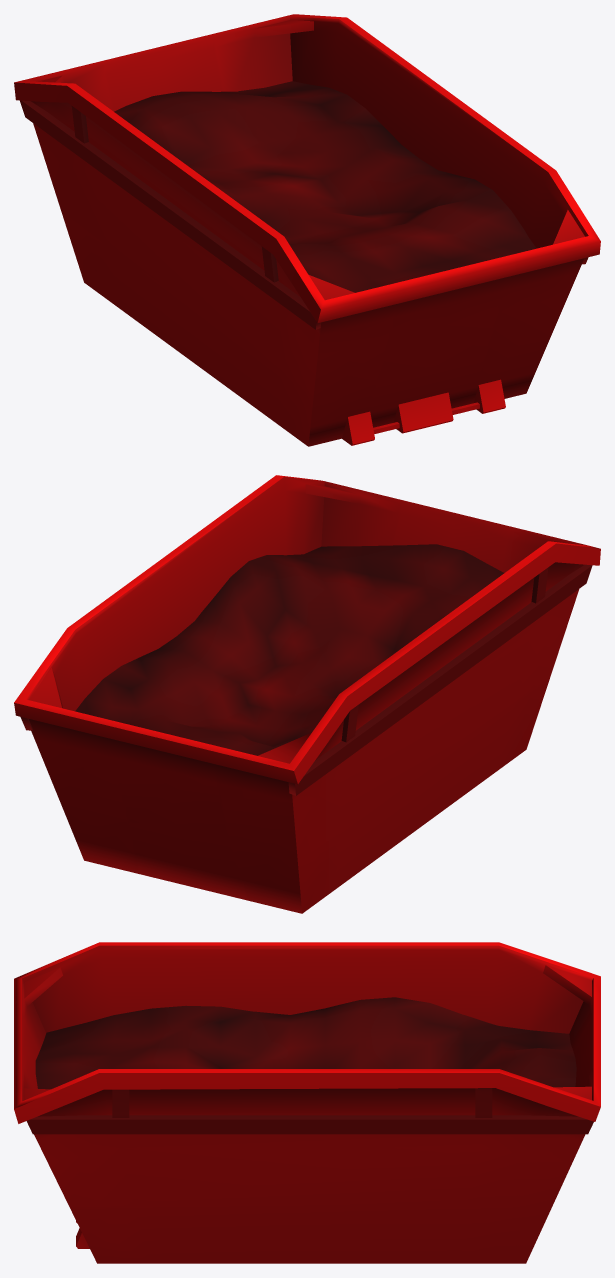
File: Skip.glb
3 renders of one model, top to bottom at view 1: azimuth 30°, elevation 25°; view 2: azimuth 150°, elevation 25°; view 3: azimuth 270°, elevation 25°, orthographic. The views are drawn at different scales.
Visible parts, largest first — view 1: Skip; view 2: Skip; view 3: Skip.
Boxes of the visible parts, box(x1,y1,x2,y2) form: Skip: box(14, 14, 600, 446); Skip: box(14, 475, 600, 913); Skip: box(14, 942, 600, 1263).
Bounding box in the file's own units: 11.41 × 8.31 × 21.5.
